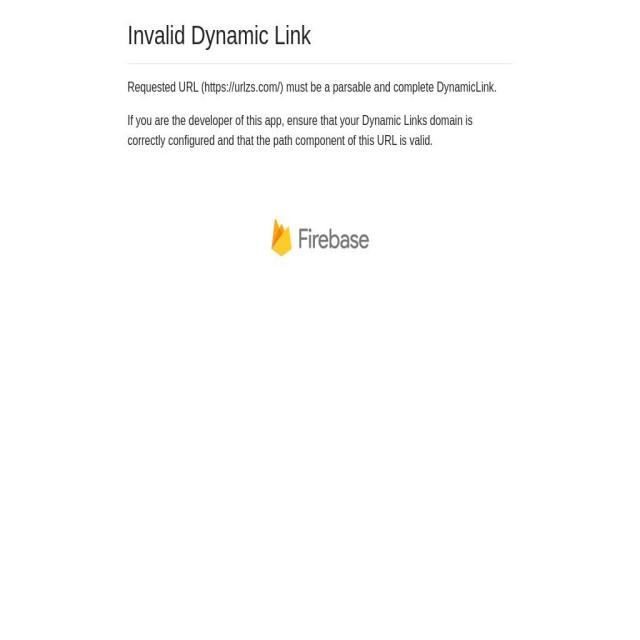button: (128, 191, 512, 291)
image: (251, 191, 389, 285)
text: (128, 111, 512, 151), (128, 78, 512, 98), (127, 20, 310, 50)
